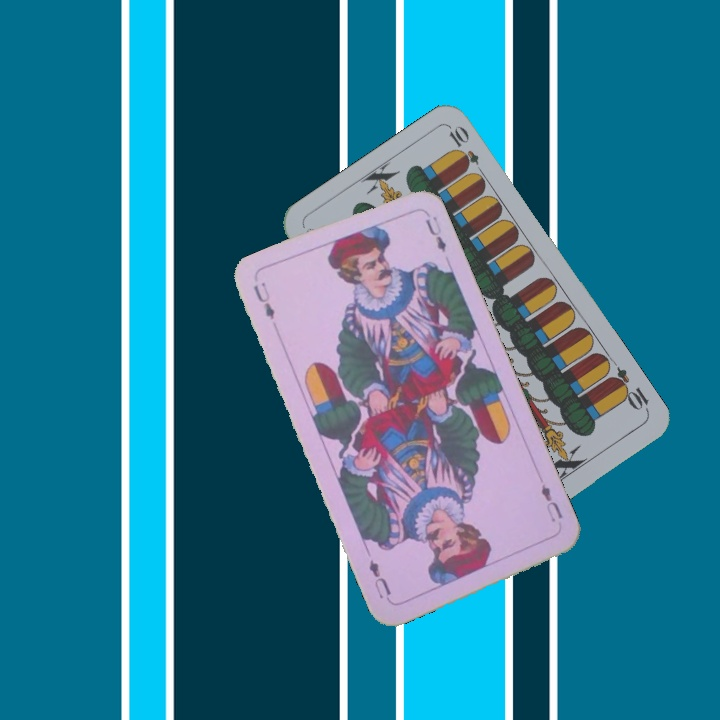E10: (605, 363, 652, 415)
EU: (536, 479, 566, 525), (249, 278, 278, 322)
